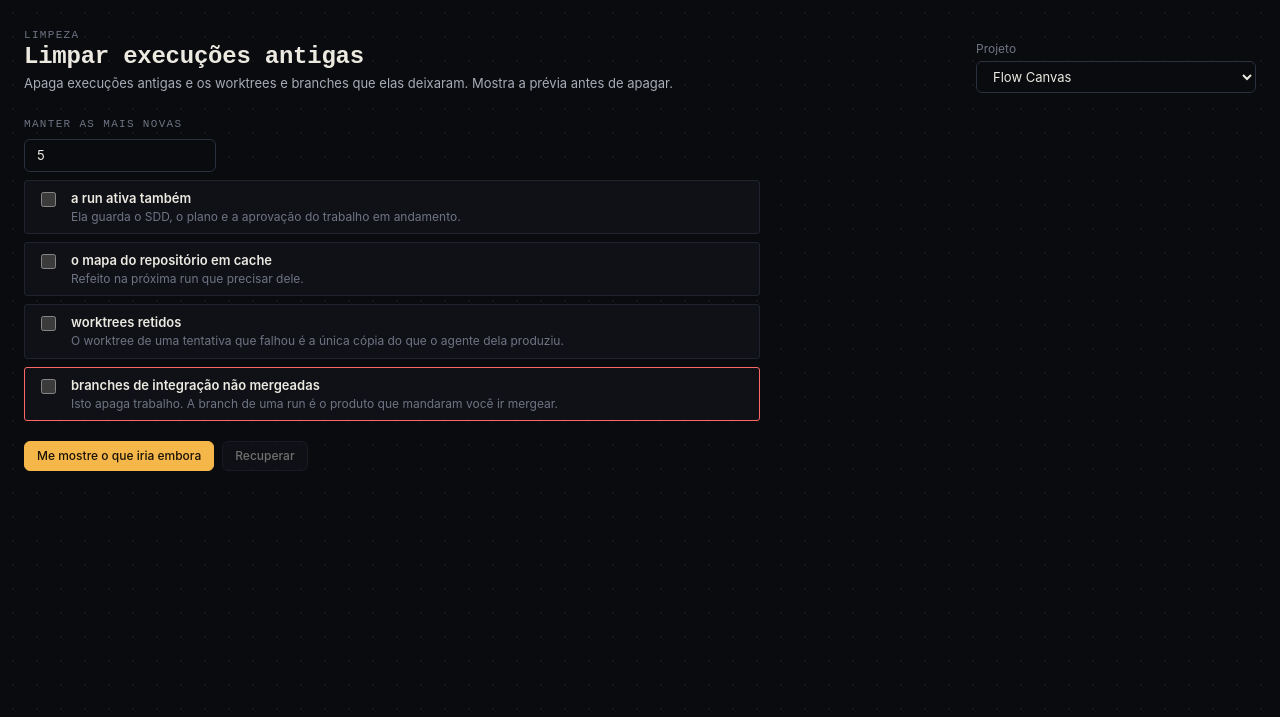
the clean page › throws the plan away when the options it was computed from change
Step 1. Click the button "Me mostre o que iria embora" → (119,456), box [24,441,214,471]
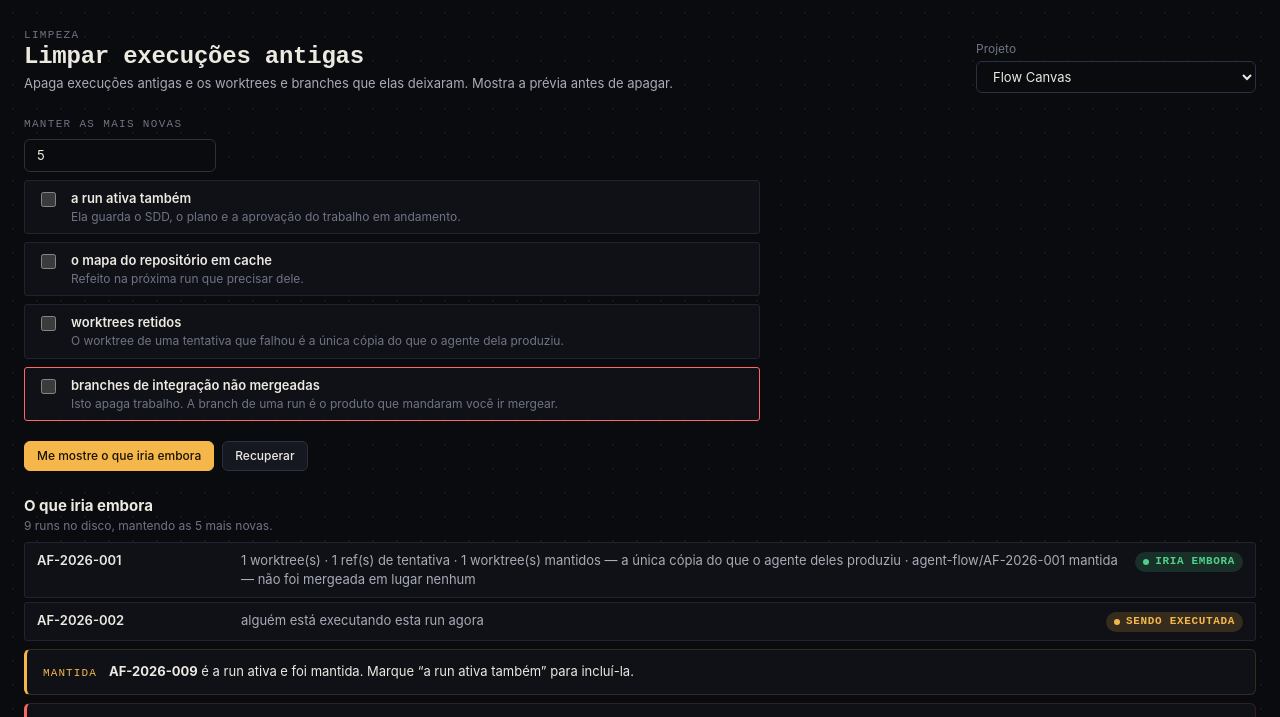
Expected: the button "Recuperar" is enabled, [222,441,308,471]
Step 2. Click the checkbox labelled "branches de integração não mergeadas" → (48,386), box [41,379,56,394]
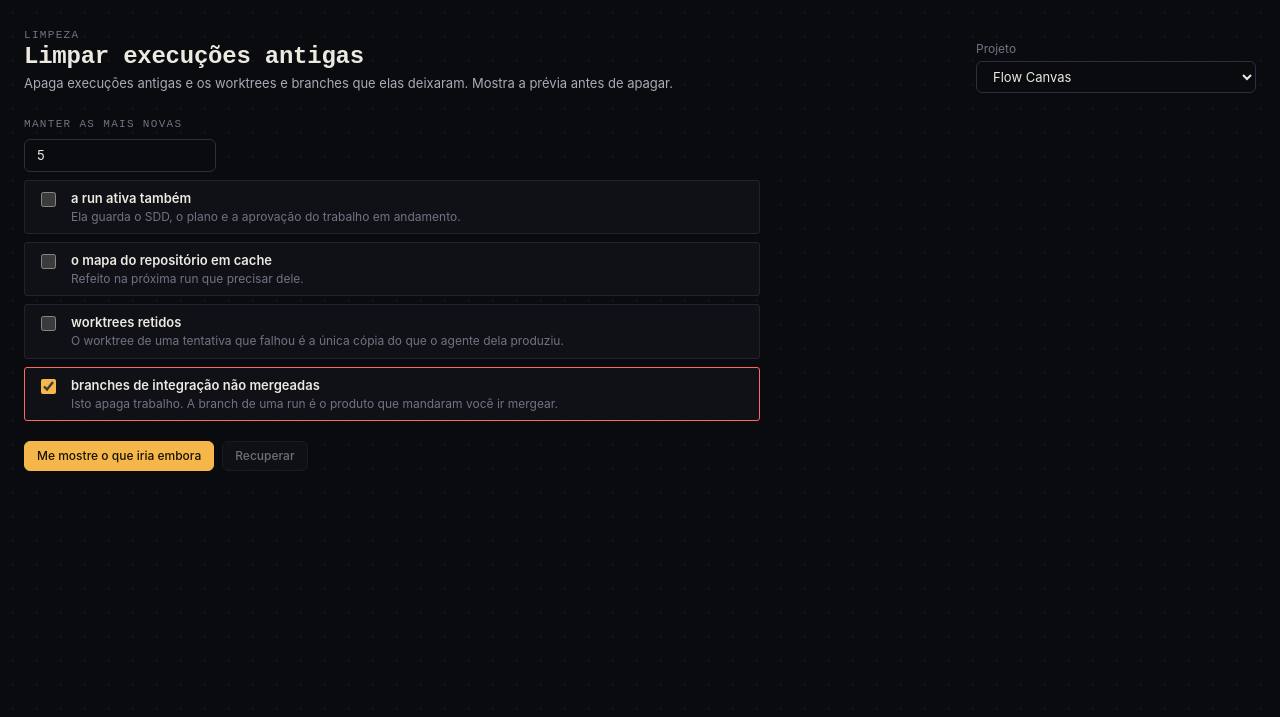
Expected: the button "Recuperar" is disabled, [222,441,308,471]
